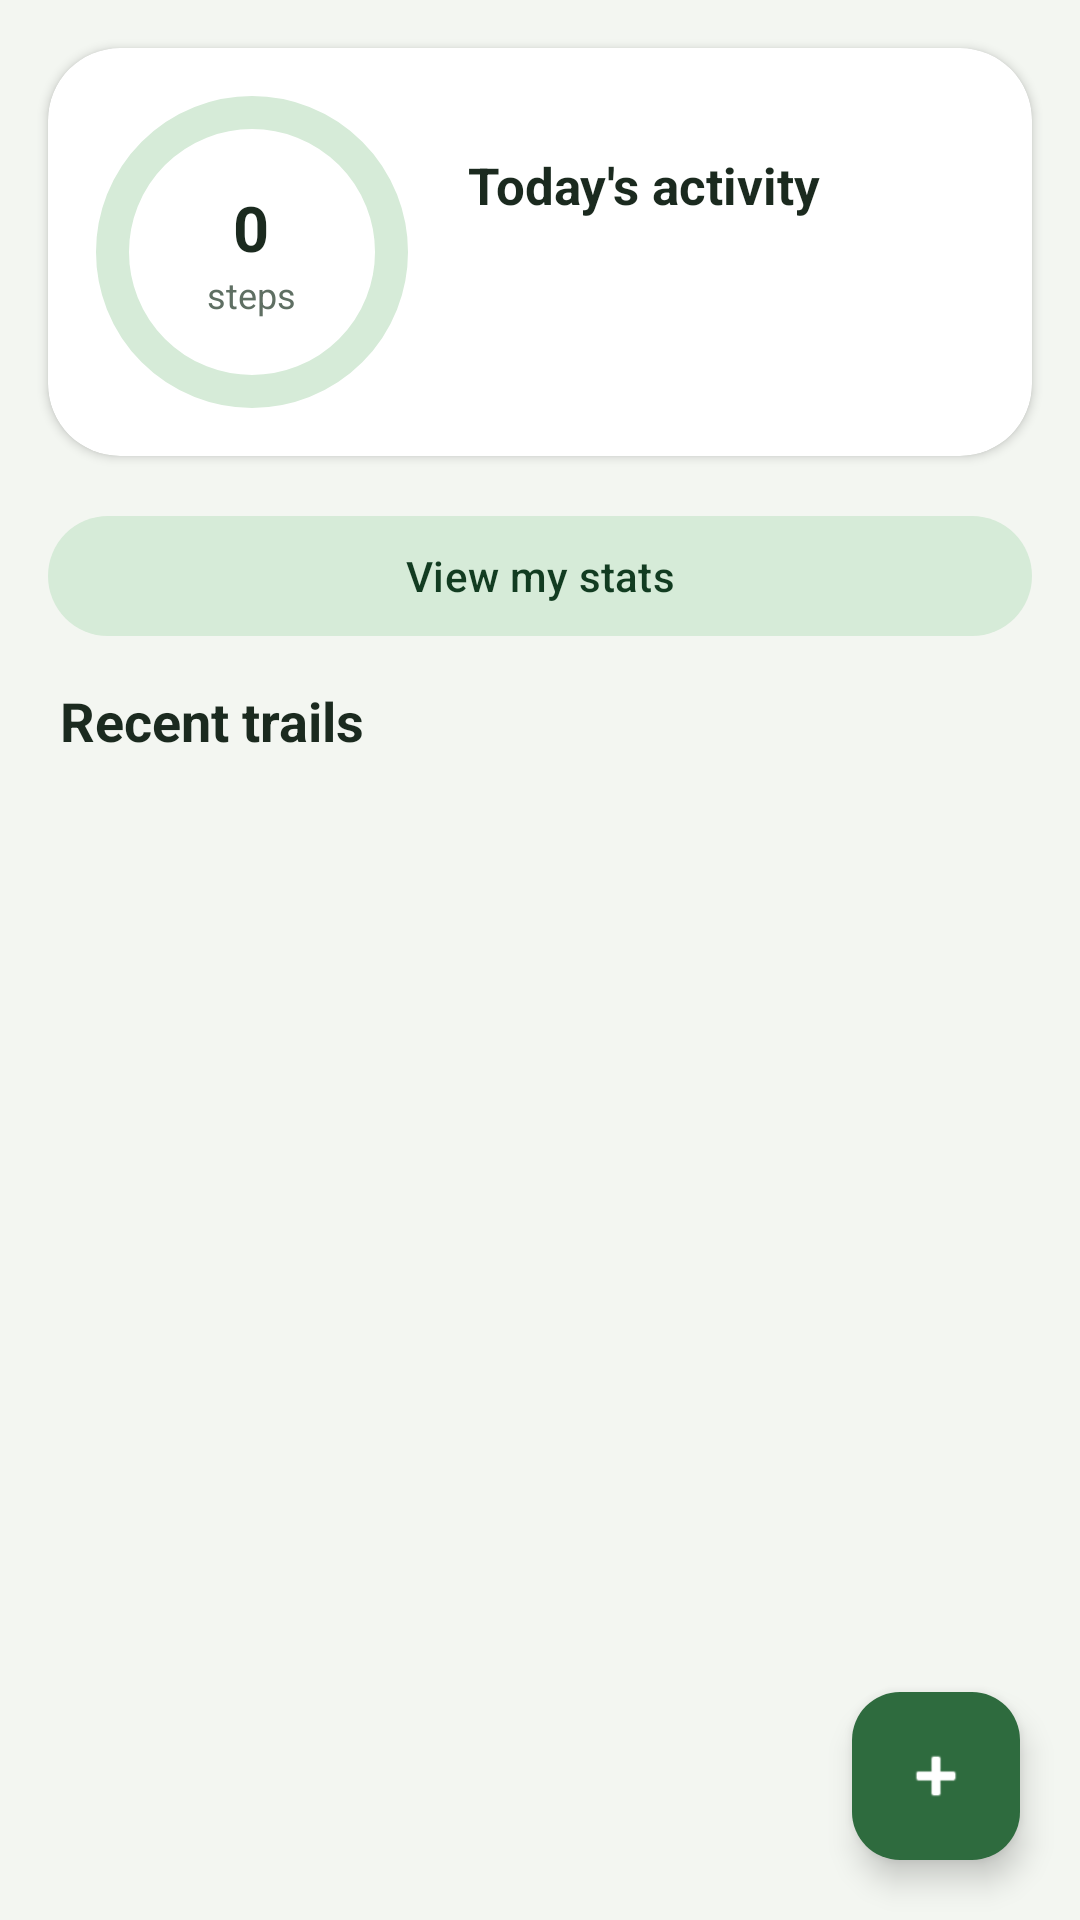

Named icons in this screenshot (1080px x 1920px) and their bounding boxes, [x1=x1, y1=y1, x2=x2, y2=y2]:
Record a new hike: [x1=852, y1=1692, x2=1020, y2=1860]
